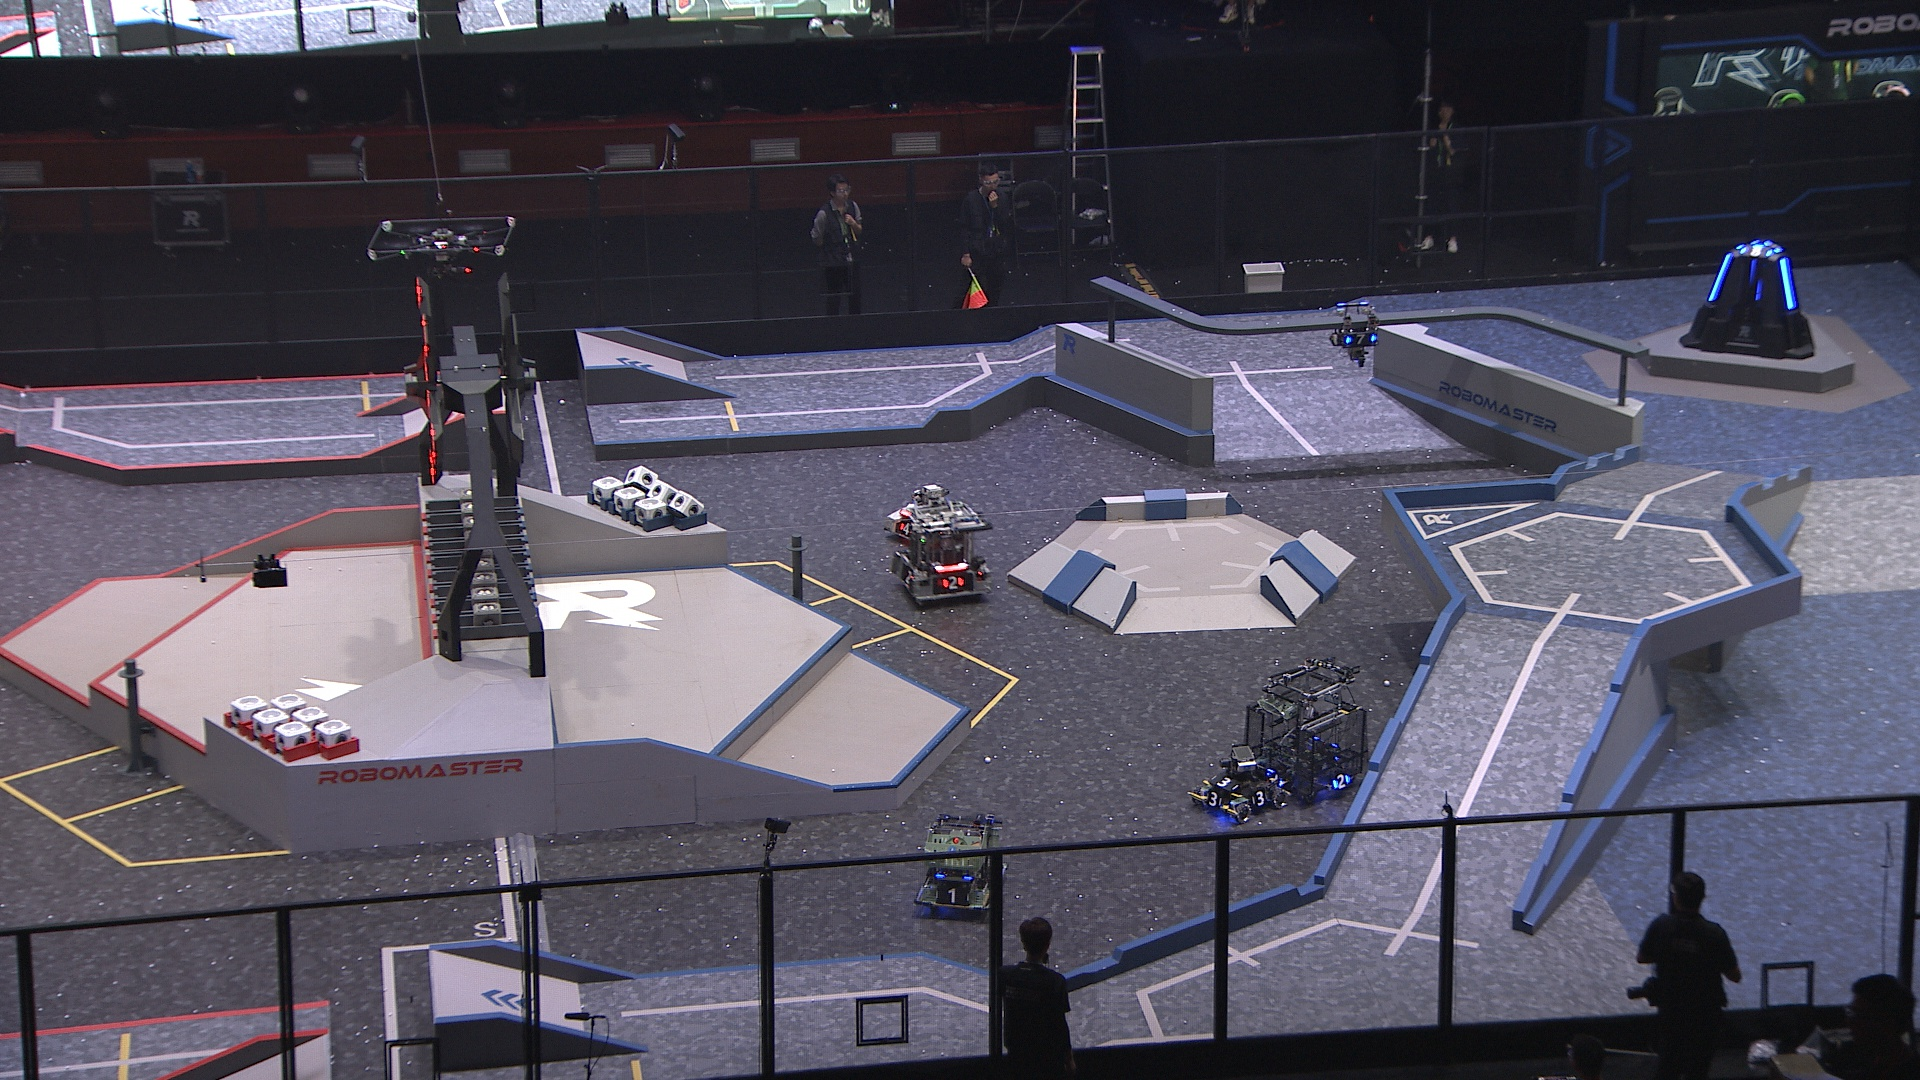armor: (1708, 252, 1731, 305), (1778, 255, 1797, 313), (936, 884, 972, 906), (1737, 243, 1775, 258), (1342, 334, 1378, 349), (940, 574, 965, 593), (1203, 789, 1224, 811), (1247, 787, 1267, 808), (1215, 774, 1240, 790), (1329, 773, 1352, 789), (901, 568, 915, 585), (895, 520, 911, 534)
base: (1680, 239, 1817, 361)
car: (1242, 659, 1367, 804), (889, 501, 993, 603), (911, 811, 1007, 915), (1187, 744, 1290, 825), (880, 481, 957, 546)
watcher: (1328, 301, 1382, 371)
